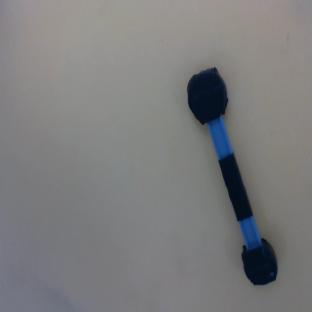part_3_bad: (180, 65, 283, 291)
